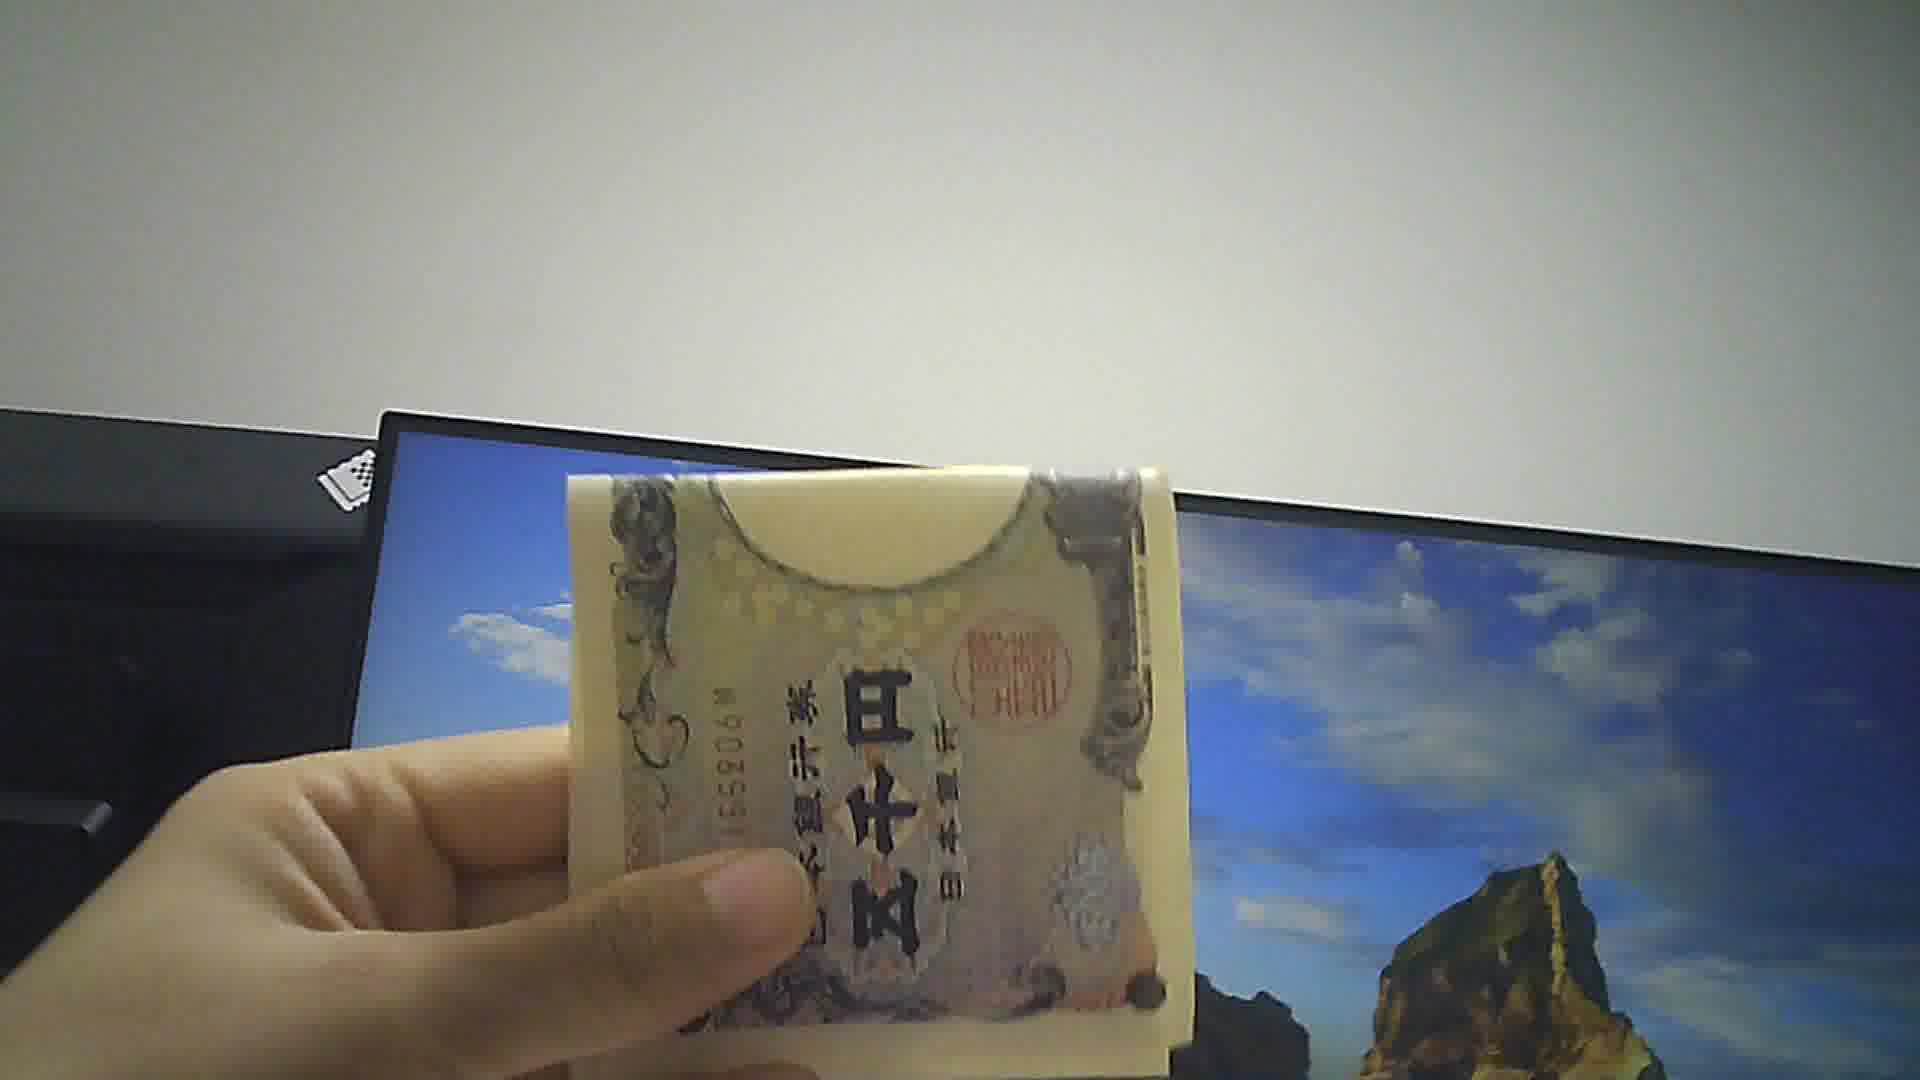5,000 Yen: (539, 431, 1211, 1068)
